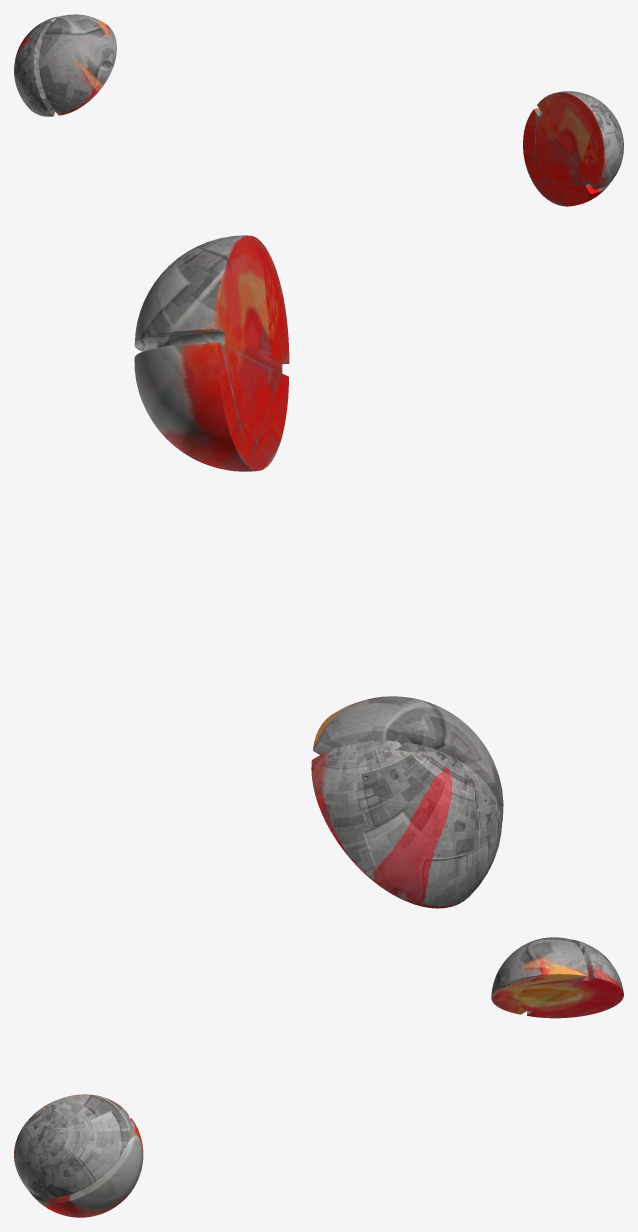
The model's file is Drone166_000039.obj.
3 renders of one model, top to bottom at view 1: azimuth 30°, elevation 25°; view 2: azimuth 150°, elevation 25°; view 3: azimuth 270°, elevation 25°, orthographic. The views are drawn at different scales.
Visible parts, largest first — view 1: Sphere.001_Sphere.005, Sphere.000_Sphere.004; view 2: Sphere.000_Sphere.004, Sphere.001_Sphere.005; view 3: Sphere.001_Sphere.005, Sphere.000_Sphere.004.
Part boxes in pixels (x1,y1,x2,y2): Sphere.001_Sphere.005: [523, 91, 623, 206]; Sphere.000_Sphere.004: [14, 14, 116, 116]; Sphere.000_Sphere.004: [311, 696, 503, 908]; Sphere.001_Sphere.005: [134, 235, 289, 471]; Sphere.001_Sphere.005: [14, 1094, 143, 1217]; Sphere.000_Sphere.004: [491, 937, 623, 1018].
Bounding box in the file's own units: 7.97 × 2.11 × 9.68.
4 materials, 4 textured.
